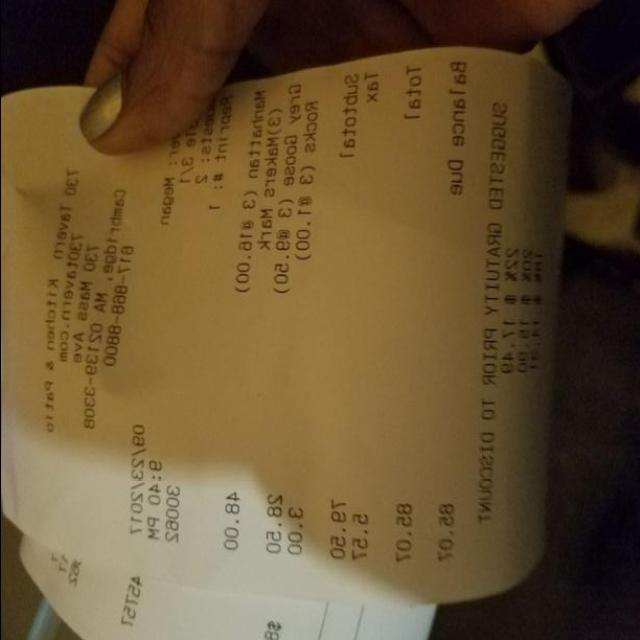kertas: (0, 24, 571, 607)
